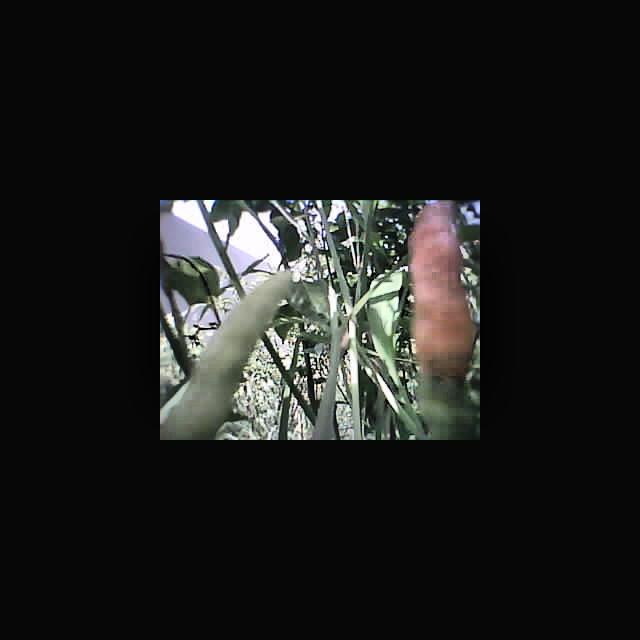Cabai: (406, 200, 477, 391)
